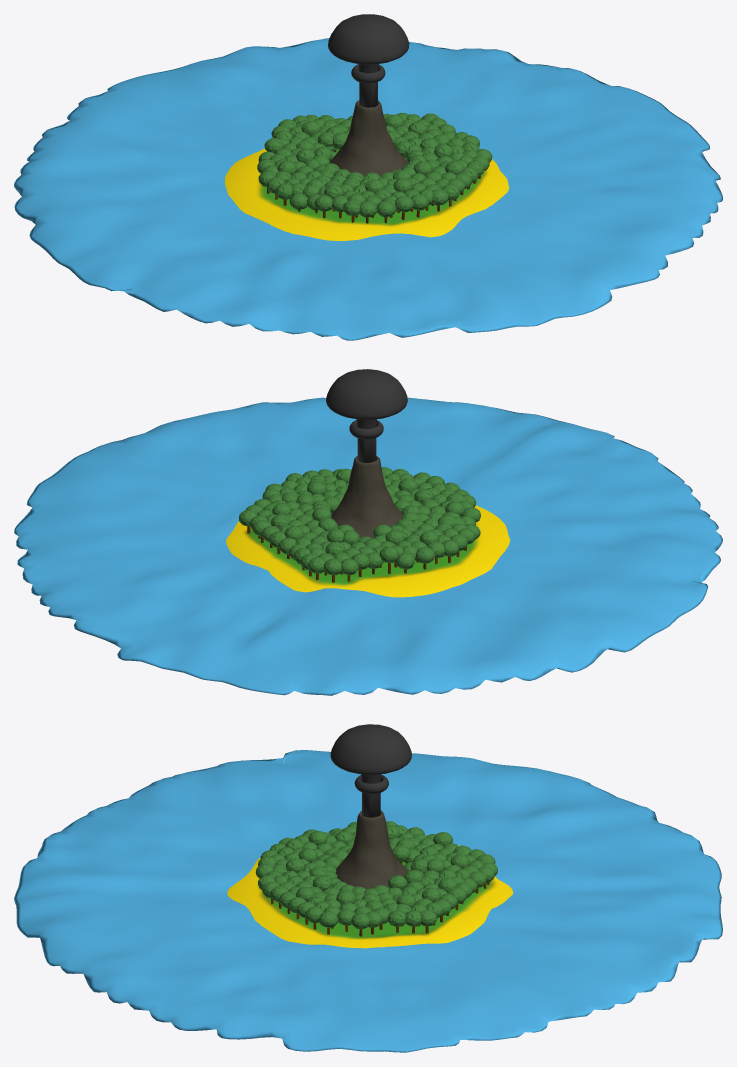
The model's file is testIsland.gltf.
3 renders of one model, top to bottom at view 1: azimuth 30°, elevation 25°; view 2: azimuth 150°, elevation 25°; view 3: azimuth 270°, elevation 25°, orthographic.
Visible parts, largest first — view 1: Object_7, Object_3, Object_6, Object_4, Object_5; view 2: Object_7, Object_3, Object_6, Object_4, Object_5; view 3: Object_7, Object_3, Object_6, Object_4, Object_5.
Boxes of the visible parts, x1,y1,x2,y2 form: Object_7: (14, 38, 722, 340); Object_3: (257, 112, 492, 217); Object_6: (225, 100, 509, 240); Object_4: (257, 116, 491, 212); Object_5: (328, 14, 409, 107); Object_7: (14, 397, 722, 695); Object_3: (239, 467, 480, 575); Object_6: (226, 456, 510, 597); Object_4: (262, 467, 480, 569); Object_5: (326, 369, 407, 462); Object_7: (14, 750, 722, 1052); Object_3: (255, 821, 497, 929); Object_6: (227, 810, 513, 948); Object_4: (258, 821, 485, 929); Object_5: (330, 724, 411, 817).
Bounding box in the file's own units: 16.14 × 4.39 × 16.06.
5 materials, 1 textured.
